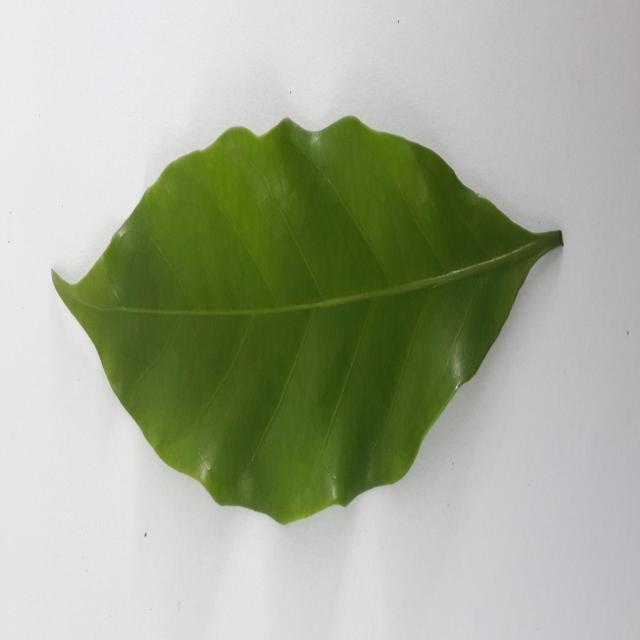nodisease: (52, 117, 563, 524)
